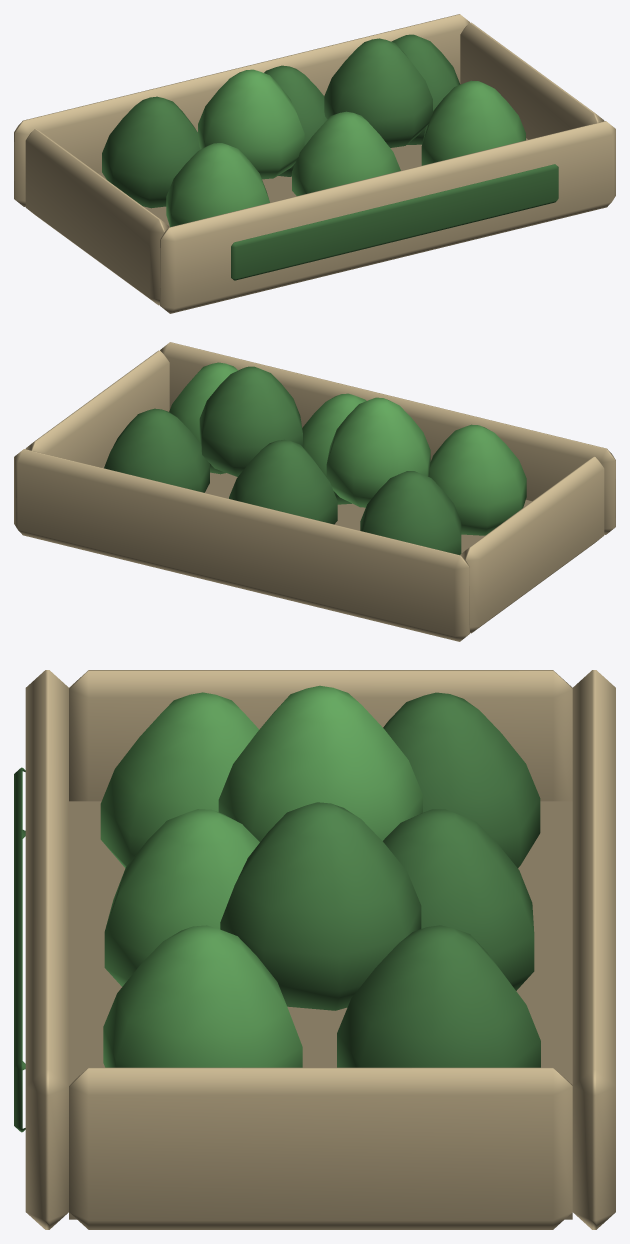
Rendered from ProduceTray_Avocados_01.glb.
3 renders of one model, top to bottom at view 1: azimuth 30°, elevation 25°; view 2: azimuth 150°, elevation 25°; view 3: azimuth 270°, elevation 25°, orthographic. The views are drawn at different scales.
Visible parts, largest first — view 1: SM_ProduceTray_Avocados_01; view 2: SM_ProduceTray_Avocados_01; view 3: SM_ProduceTray_Avocados_01.
Boxes of the visible parts, x1=… form: SM_ProduceTray_Avocados_01: x1=14, y1=14, x2=615, y2=313; SM_ProduceTray_Avocados_01: x1=14, y1=342, x2=615, y2=641; SM_ProduceTray_Avocados_01: x1=14, y1=670, x2=615, y2=1229.
Bounding box in the file's own units: 0.5 × 0.1572 × 0.306.
Materials: 1 (1 with a texture image).
